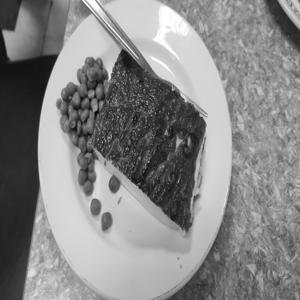casserole: (47, 48, 211, 236)
